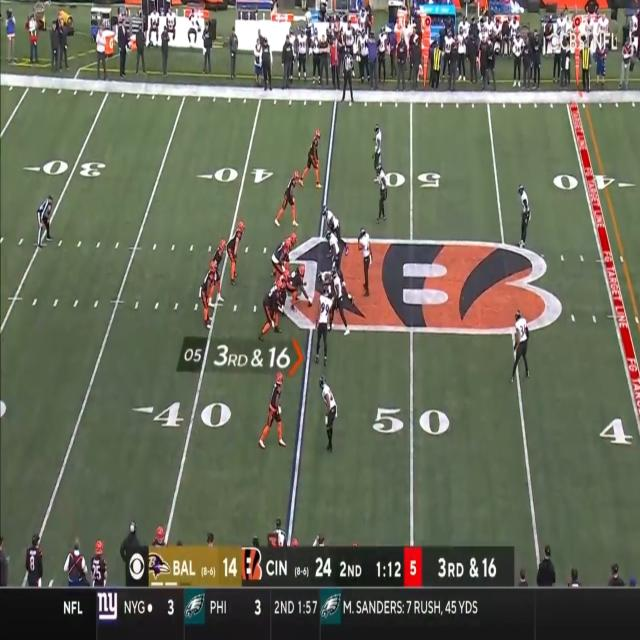Ball: (308, 296, 314, 307)
